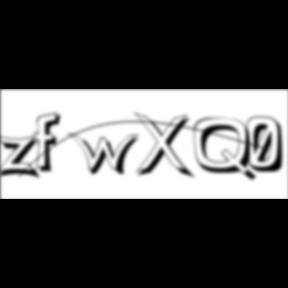Q: (194, 117, 260, 184)
X: (134, 112, 198, 182)
f: (35, 111, 68, 175)
w: (68, 132, 146, 178)
z: (0, 134, 46, 182)
